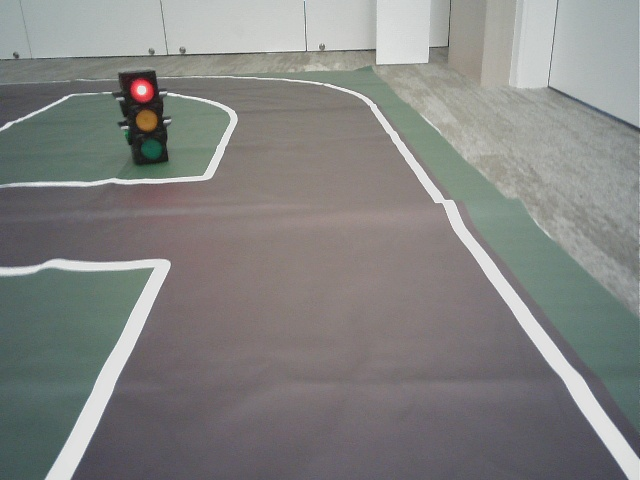red: (126, 75, 165, 158)
